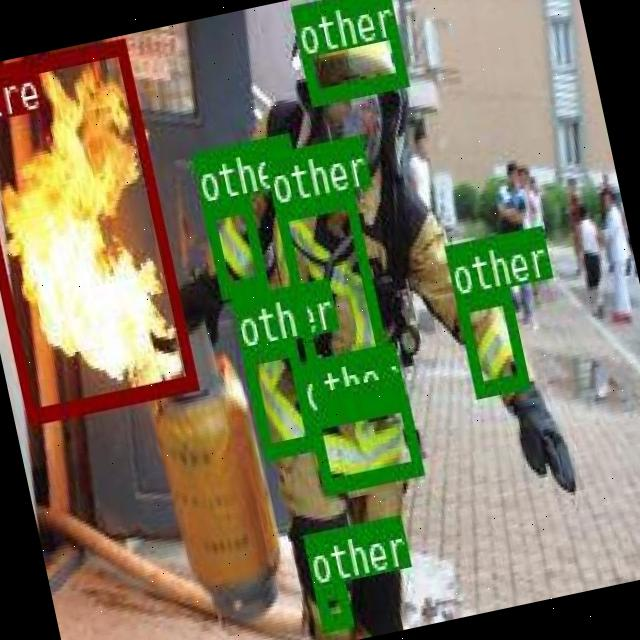fire: (0, 36, 195, 420)
